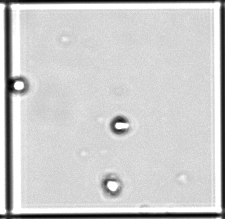Living Cell: (103, 176, 122, 195), (111, 115, 129, 134), (10, 77, 27, 94)
